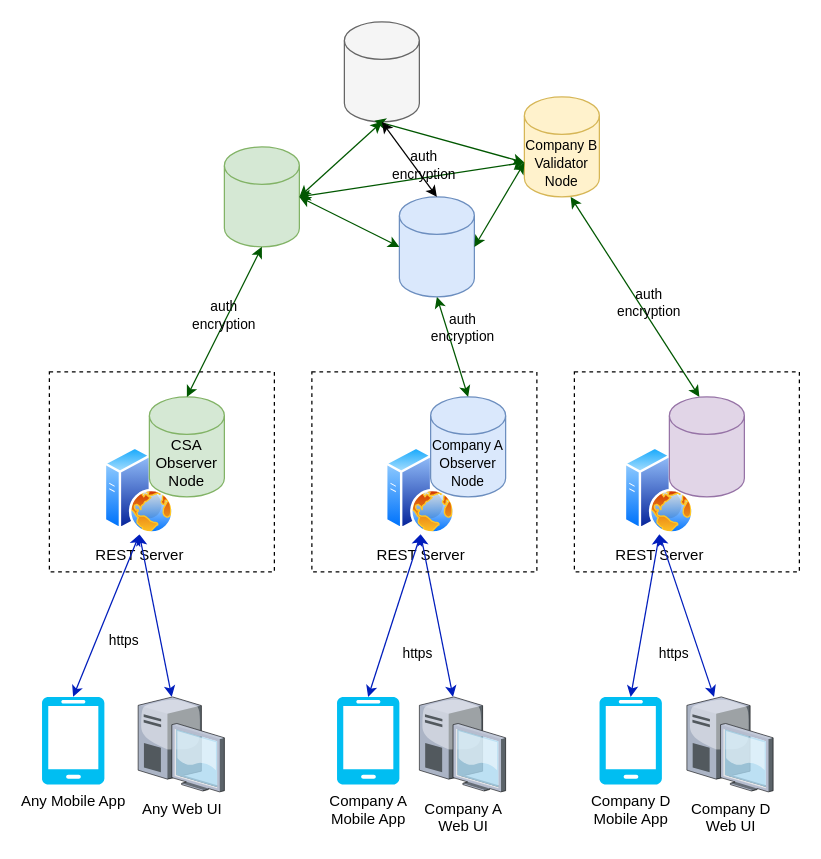
This 821x859 diagram has some shape labels left out. Here are the shapes that lost their labels. From the top down, the box of each, then its label:
(343, 21, 419, 122): Company C Validator Node
(223, 146, 299, 247): CSA Validator Node
(398, 196, 474, 297): Company A Validator Node
(668, 396, 744, 497): Company D Observer Node
